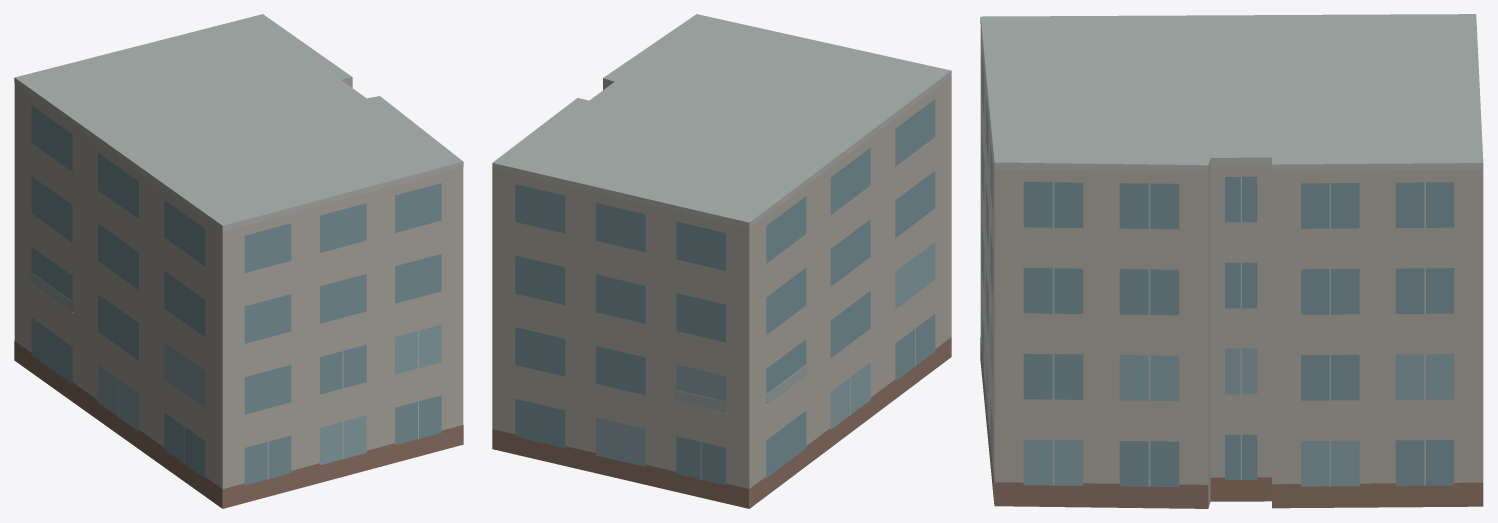
File: survey-upis-32736300.glb
The picture shows the model from 3 angles, left to right: view 1: azimuth 30°, elevation 25°; view 2: azimuth 150°, elevation 25°; view 3: azimuth 270°, elevation 25°; orthographic projection. The views are drawn at different scales.
Parts seen in each view (by area): view 1: survey-upis-32736300.tmp; view 2: survey-upis-32736300.tmp; view 3: survey-upis-32736300.tmp.
Part boxes in pixels (<box>): survey-upis-32736300.tmp: <box>14,14,463,508</box>; survey-upis-32736300.tmp: <box>492,14,951,508</box>; survey-upis-32736300.tmp: <box>980,14,1483,508</box>.
Size of the model in its own units: 11.54 by 12.2 by 16.19.
